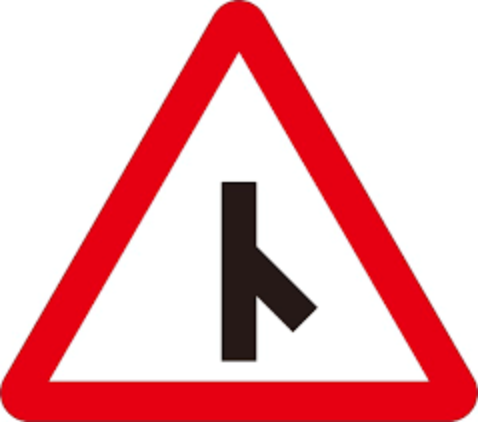Fork_road: (1, 3, 478, 420)
